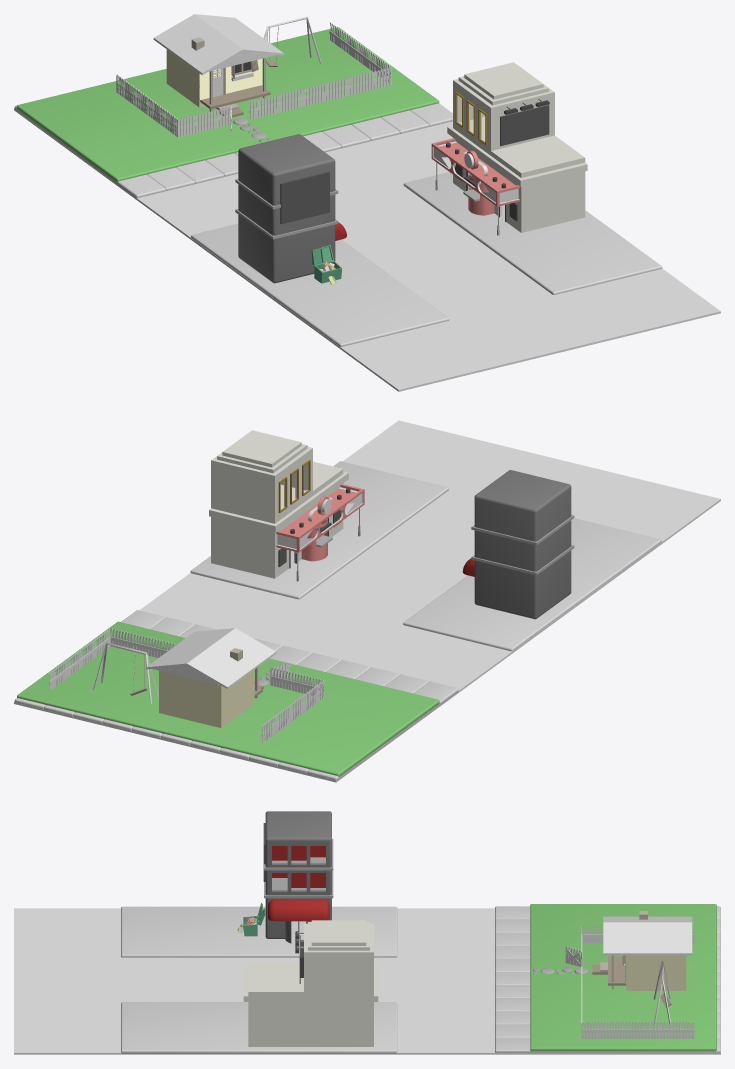
The model's file is town.gltf.
The picture shows the model from 3 angles, top to bottom: view 1: azimuth 30°, elevation 25°; view 2: azimuth 150°, elevation 25°; view 3: azimuth 270°, elevation 25°; orthographic projection. The views are drawn at different scales.
Visible parts, largest first — view 1: Ground, Grass, Cube (×2), Left_road, Right_road, Theater_Main, Cube.2 (×2), Extrude, Billboard_2 (×2), theater_overhang, Cube.29, Cube.3 (+7 smaller); view 2: Ground, Grass, Cube (×2), Left_road, Right_road, Cube.2 (×2), Theater_Main, Extrude, theater_overhang, Cube.29, Cube.33, Cube.30 (+6 smaller); view 3: Ground, Grass, Left_road, Right_road, Theater_Main, Cube (×2), Cube.2, Extrude, Cylinder.13, Cube.39, floor2, floor3 (+11 smaller).
Boxes of the visible parts, box(x1,y1,x2,y2) form: Ground: box(14, 108, 720, 391); Grass: box(16, 27, 439, 182); Cube (×2): box(166, 49, 335, 283); Left_road: box(191, 223, 449, 346); Right_road: box(403, 172, 662, 294); Theater_Main: box(453, 116, 585, 232); Cube.2 (×2): box(447, 62, 587, 186); Extrude: box(153, 14, 283, 74); Billboard_2 (×2): box(280, 105, 549, 224); theater_overhang: box(431, 138, 519, 206); Cube.29: box(14, 105, 165, 198); Cube.3: box(200, 85, 270, 109); Ground: box(14, 420, 720, 782); Grass: box(17, 621, 439, 776); Cube (×2): box(159, 470, 571, 728); Left_road: box(403, 518, 661, 651); Right_road: box(190, 461, 448, 599); Cube.2 (×2): box(209, 430, 348, 532); Theater_Main: box(211, 461, 343, 578); Extrude: box(146, 628, 276, 688); theater_overhang: box(276, 484, 364, 552); Cube.29: box(307, 681, 458, 780); Cube.33: box(190, 653, 341, 751); Cube.30: box(278, 674, 428, 773); Ground: box(14, 908, 720, 1054); Grass: box(530, 904, 716, 1051); Left_road: box(121, 906, 397, 957); Right_road: box(121, 1002, 397, 1053); Theater_Main: box(248, 963, 373, 1046); Cube (×2): box(265, 811, 686, 990); Cube.2: box(304, 920, 373, 991); Extrude: box(603, 916, 692, 955); Cylinder.13: box(268, 899, 329, 921); Cube.39: box(495, 1037, 720, 1052); floor2: box(264, 870, 333, 898); floor3: box(264, 839, 333, 870).
Bounding box in the file's own units: 52.2 × 17.7 × 108.
